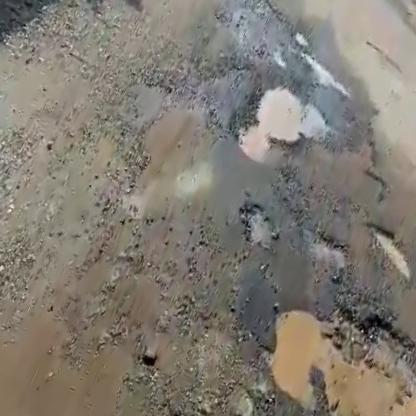pothole: (239, 282, 416, 416), (229, 69, 346, 183), (351, 217, 416, 280), (235, 197, 289, 251)
